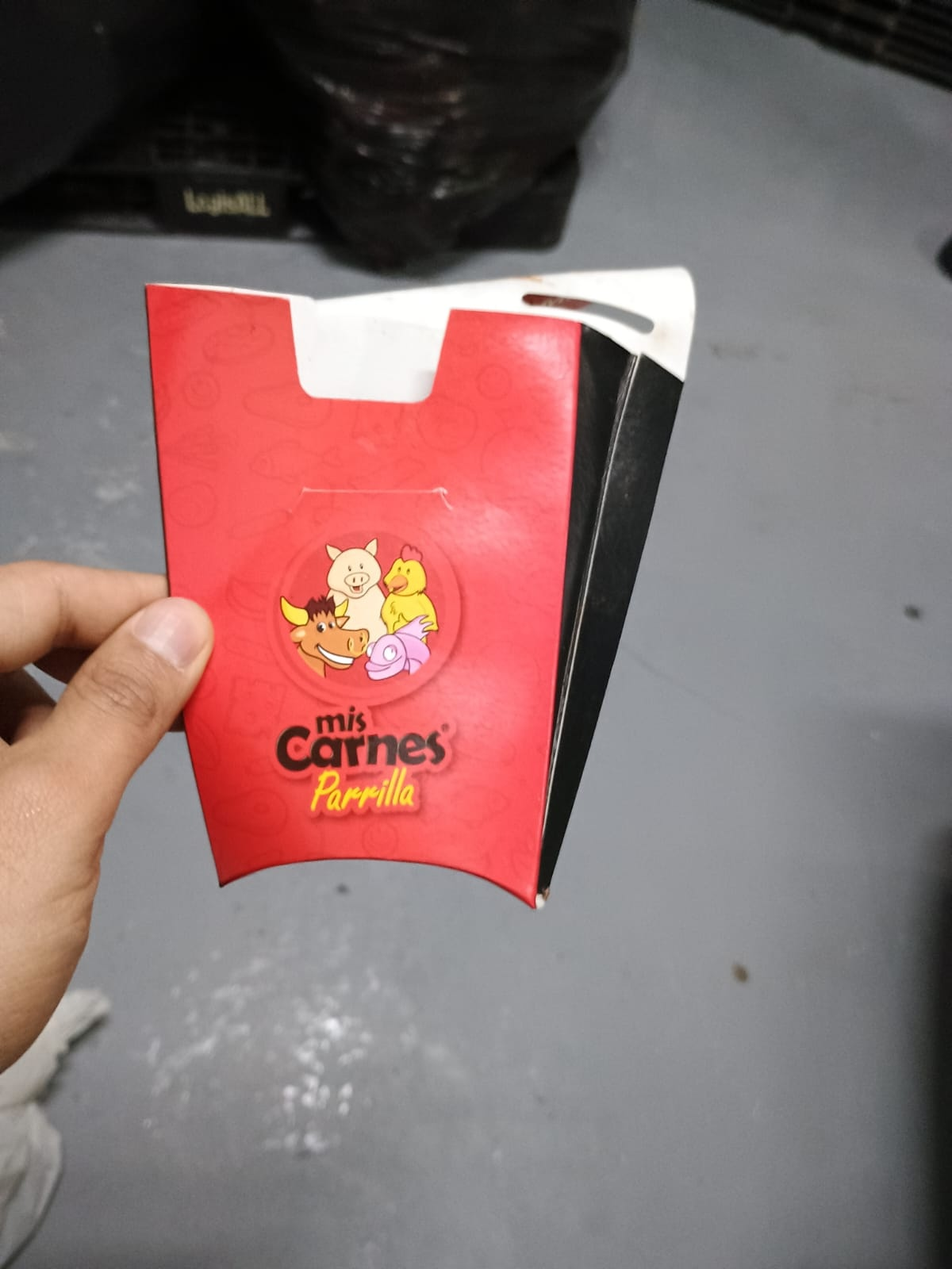Carton: (145, 267, 696, 904)
